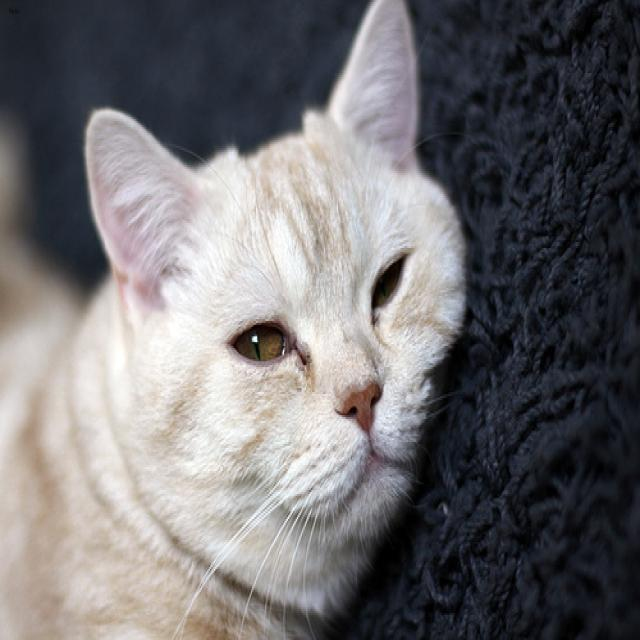British_Shorthair: (67, 0, 469, 608)
